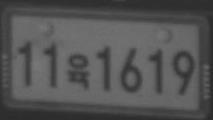1: (147, 48, 169, 94), (43, 42, 63, 87), (95, 46, 115, 90), (17, 41, 36, 85)
6: (119, 47, 142, 93)
9: (172, 50, 195, 95)
육: (67, 53, 91, 90)
